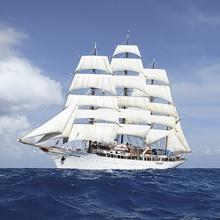fanchuan: (21, 36, 187, 168)
